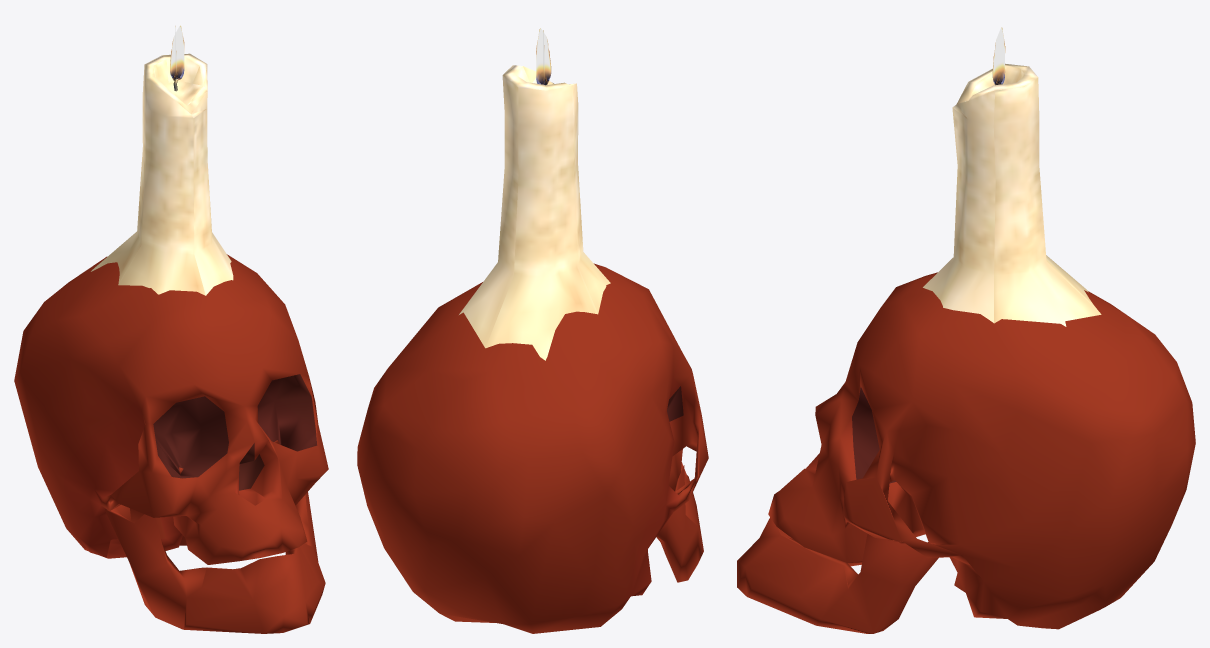
File: CandleSkullShapeA.004.glb
The picture shows the model from 3 angles, left to right: view 1: azimuth 30°, elevation 25°; view 2: azimuth 150°, elevation 25°; view 3: azimuth 270°, elevation 25°; orthographic projection. The views are drawn at different scales.
Visible parts, largest first — view 1: CandleSkullShapeA.004; view 2: CandleSkullShapeA.004; view 3: CandleSkullShapeA.004.
Boxes of the visible parts, x1,y1,x2,y2 form: CandleSkullShapeA.004: (14, 25, 328, 633); CandleSkullShapeA.004: (357, 28, 708, 633); CandleSkullShapeA.004: (737, 27, 1195, 633).
Size of the model in its own units: 0.2005 by 0.4386 by 0.3132.
2 materials, 2 textured.
